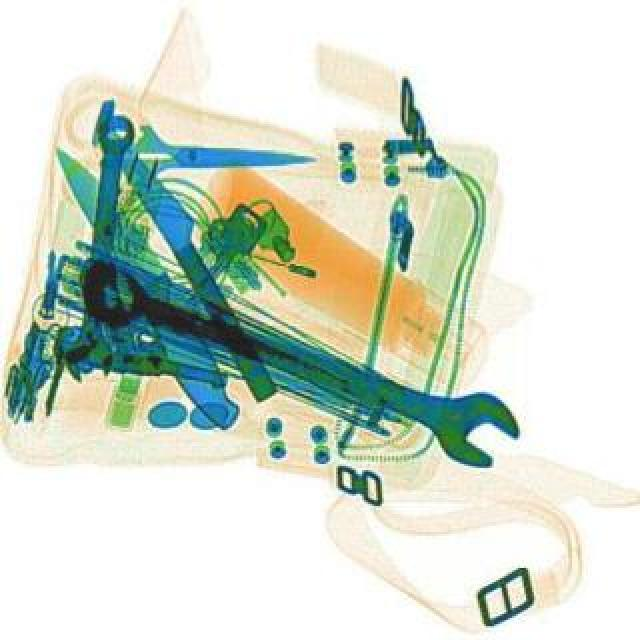gun: (60, 256, 248, 392)
knife: (32, 136, 254, 436), (78, 110, 290, 402), (100, 122, 316, 186)
scissors: (64, 244, 528, 476), (50, 108, 146, 382)
